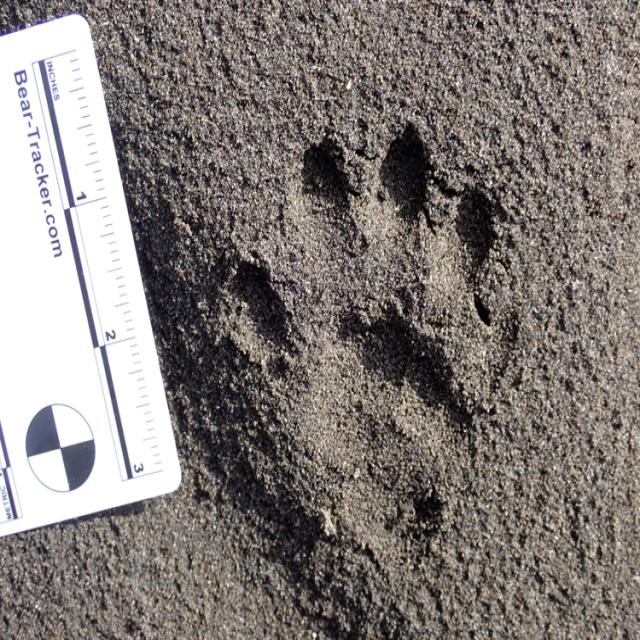mustelid: (224, 120, 508, 536)
